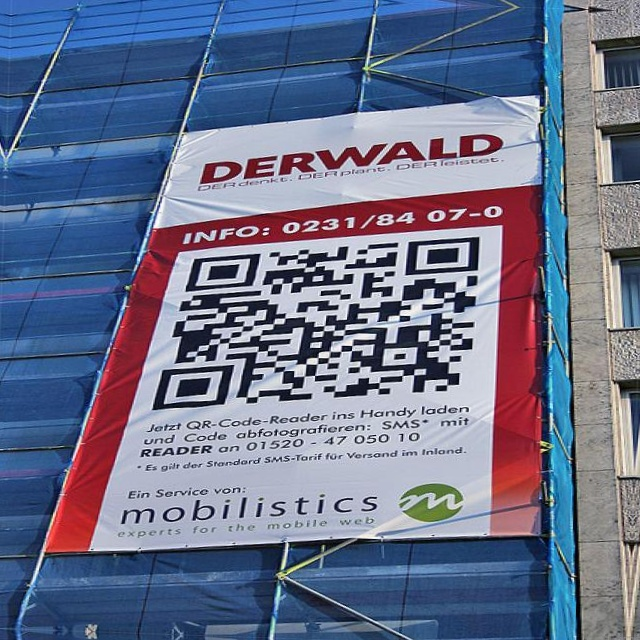qr-code: (153, 226, 478, 420)
